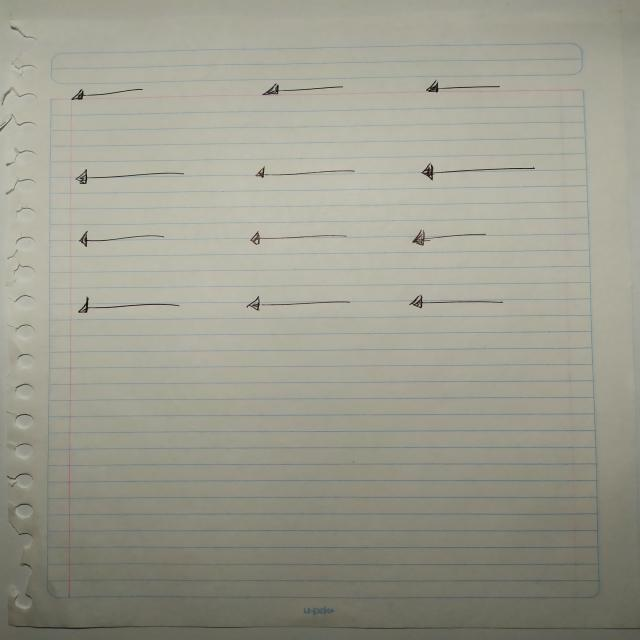arrow_line_left: (240, 160, 368, 188), (67, 293, 209, 317), (404, 161, 558, 183), (70, 226, 182, 256), (62, 163, 194, 188), (396, 222, 504, 252), (396, 290, 516, 314), (234, 293, 362, 315), (256, 74, 354, 102), (59, 78, 155, 106), (414, 75, 520, 99), (236, 228, 351, 250)
